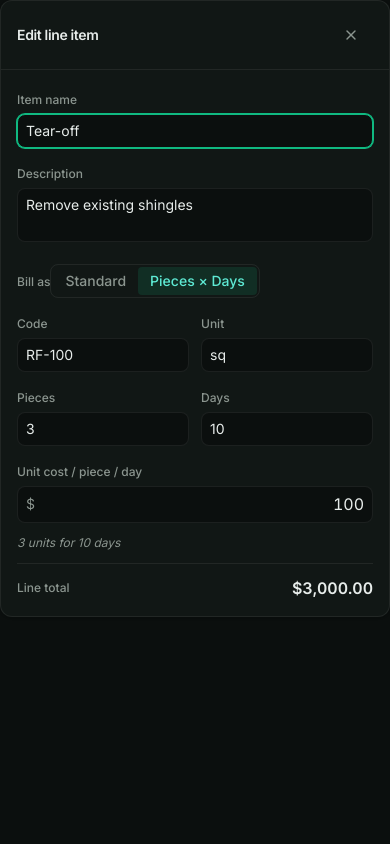
Test: LineItemEditorPanel — equipment pricing (#682) › ticks the live total and derived note off pieces × days while typing
This screenshot has width=390, height=844.
Check: the text with test id "editor-line-total" reads "$3,000.00", box x1=292 y1=578 x2=373 y2=598
Replace the text in the field with test id "editor-field-pieces" with "4" at (103, 429), box x1=17 y1=412 x2=189 y2=446
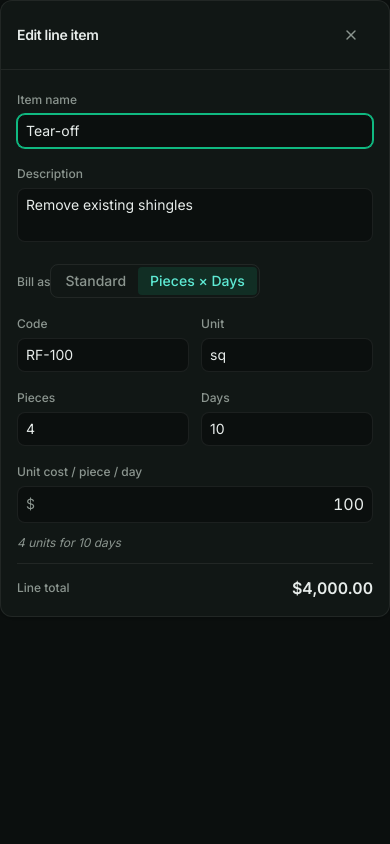
Check: the text with test id "editor-line-total" reads "$4,000.00", box x1=292 y1=578 x2=373 y2=598
Check: the text with test id "editor-derived-note" reads "4 units for 10 days", box x1=17 y1=535 x2=121 y2=550
